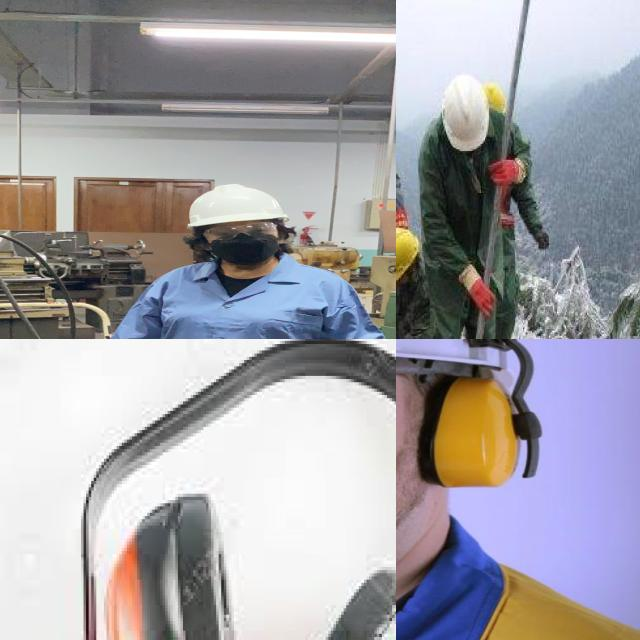Ear-protection: (99, 487, 247, 640), (236, 560, 396, 640), (435, 374, 525, 486)
face_mask: (197, 220, 288, 265)
glasses: (198, 221, 284, 243)
hand_glove: (484, 153, 522, 187), (469, 276, 497, 318)
head_helmet: (176, 180, 294, 232), (437, 74, 492, 151), (396, 221, 422, 287)
person: (396, 339, 640, 640), (59, 184, 396, 339), (409, 71, 538, 339), (396, 227, 442, 339), (396, 148, 413, 339)
